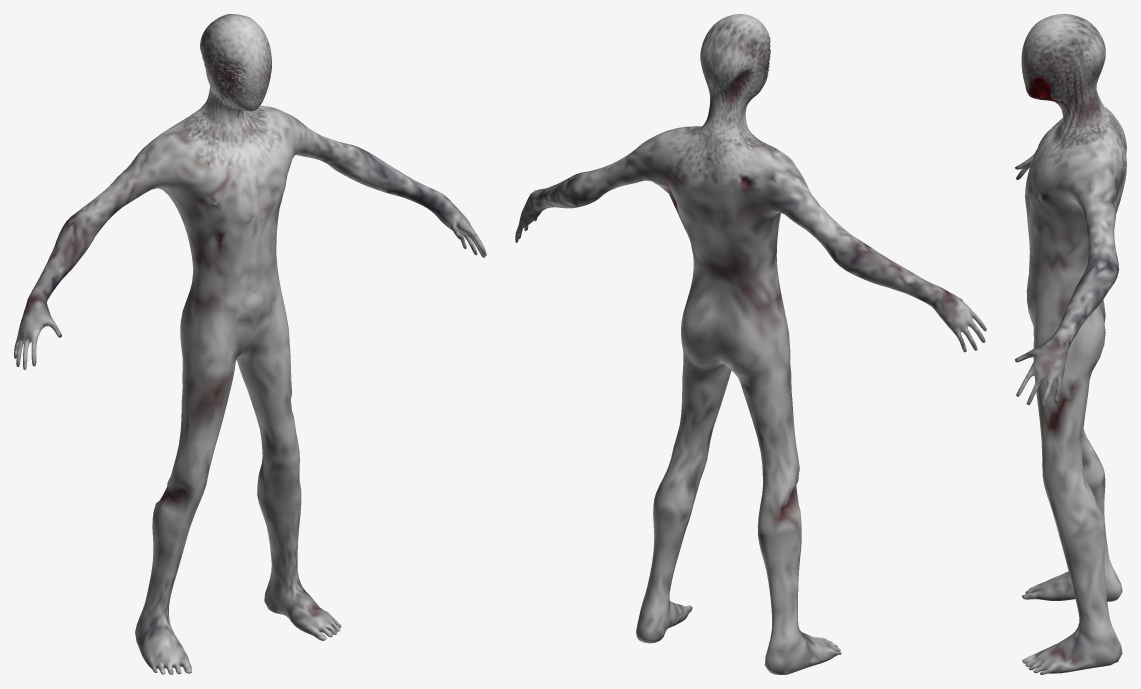
File: zombieBite.fbx
3 renders of one model, left to right at view 1: azimuth 30°, elevation 25°; view 2: azimuth 150°, elevation 25°; view 3: azimuth 270°, elevation 25°, orthographic.
Visible parts, largest first — view 1: Nickz_humanMaleAverage_material_0; view 2: Nickz_humanMaleAverage_material_0; view 3: Nickz_humanMaleAverage_material_0.
Part boxes in pixels (box(x1,y1,x2,y2)): Nickz_humanMaleAverage_material_0: box(14, 14, 486, 674); Nickz_humanMaleAverage_material_0: box(515, 14, 986, 674); Nickz_humanMaleAverage_material_0: box(1015, 14, 1126, 674).
Size of the model in its own units: 12676 by 16399 by 2707.
